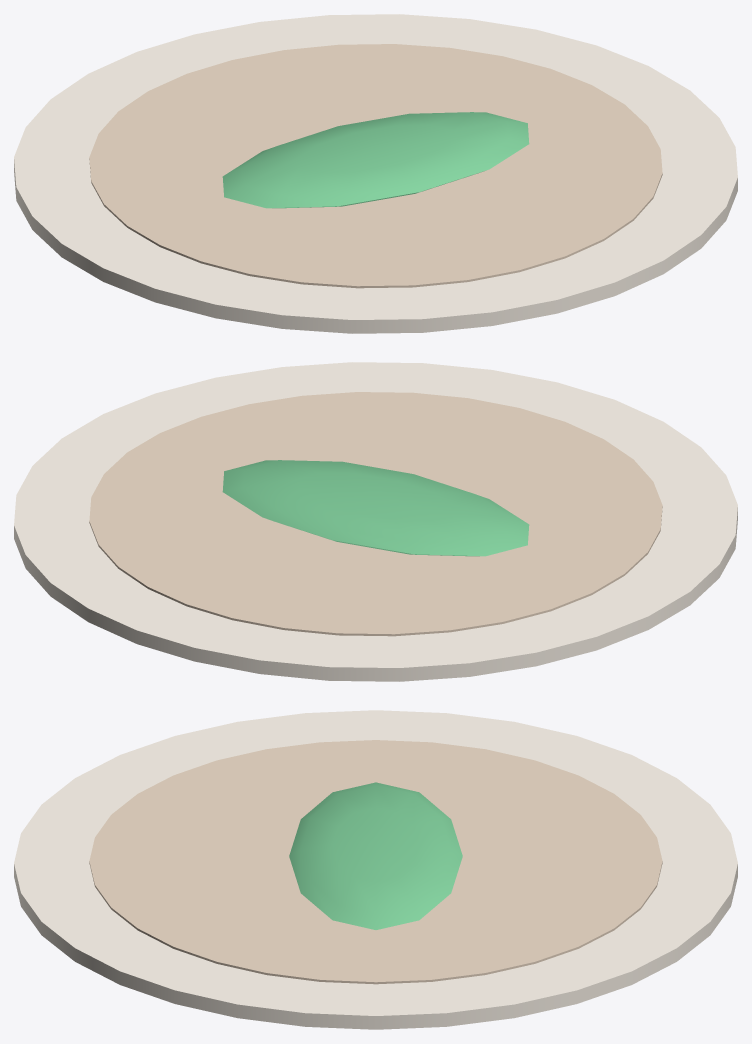
File: rug_round.glb
3 views of the same model, one above another, from view 1: azimuth 30°, elevation 25°; view 2: azimuth 150°, elevation 25°; view 3: azimuth 270°, elevation 25° (orthographic).
Visible parts, largest first — view 1: rug_round; view 2: rug_round; view 3: rug_round.
Part boxes in pixels (x1,y1,x2,y2): rug_round: (14, 14, 737, 333); rug_round: (14, 362, 737, 681); rug_round: (14, 710, 737, 1029).
Bounding box in the file's own units: 0.96 × 0.0492 × 0.96.
